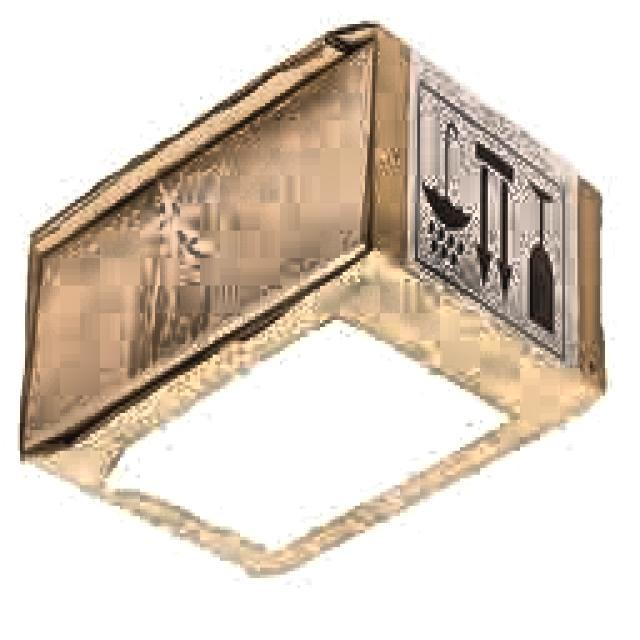cardboard: (20, 24, 608, 585)
